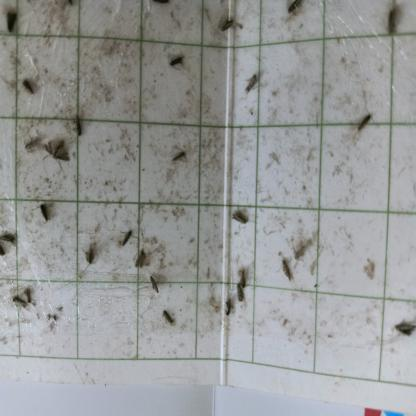prays_oleae: (41, 134, 70, 170), (380, 4, 402, 48), (80, 239, 104, 273), (352, 111, 381, 139), (220, 205, 254, 228), (238, 69, 266, 96), (40, 185, 55, 232), (66, 109, 89, 139), (394, 310, 414, 343), (169, 136, 189, 168), (284, 0, 309, 24), (147, 270, 166, 301), (274, 251, 292, 283), (23, 129, 42, 159), (133, 242, 153, 270), (3, 9, 20, 41), (217, 10, 237, 36), (8, 292, 27, 318), (238, 264, 255, 293), (161, 309, 182, 332), (1, 221, 20, 245), (166, 47, 184, 72), (116, 227, 133, 251), (20, 70, 34, 96), (233, 283, 246, 307), (25, 280, 36, 306), (225, 296, 233, 322)
